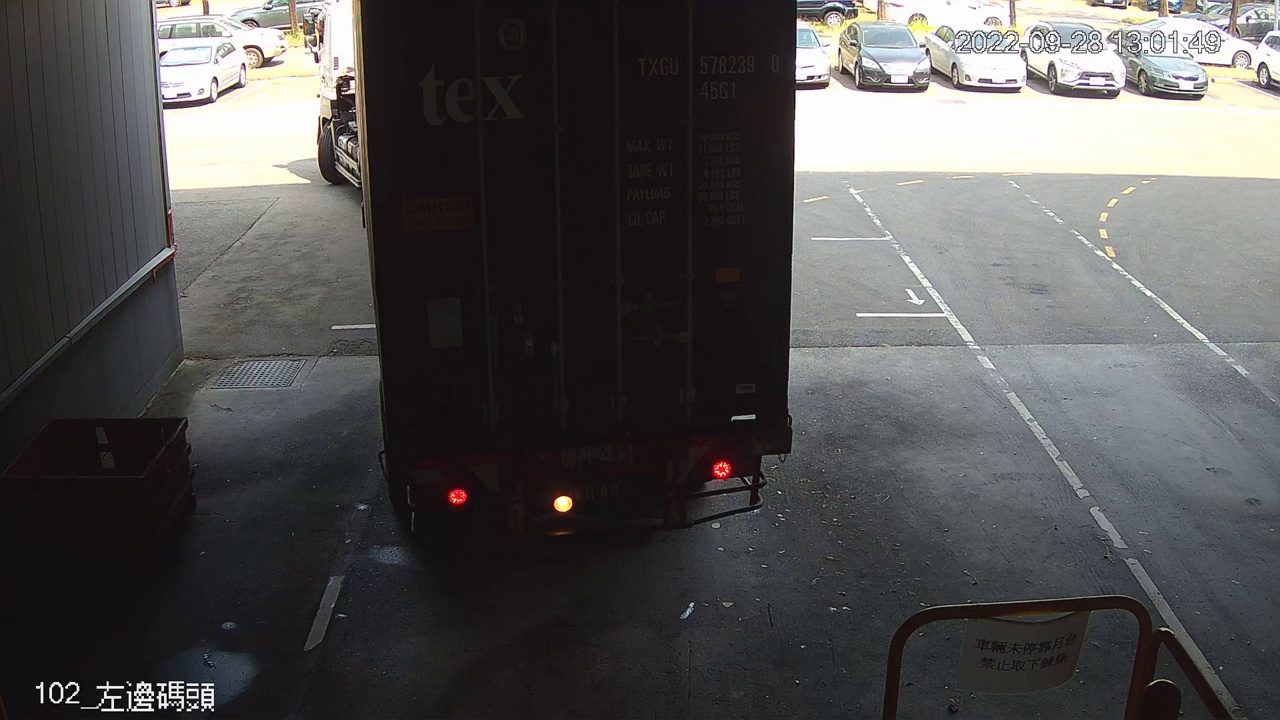container: (629, 49, 787, 106)
